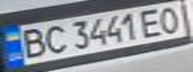1: (118, 9, 142, 40)
3: (69, 18, 90, 51)
4: (103, 11, 127, 44), (87, 15, 109, 47)
B: (15, 25, 51, 60)
C: (39, 22, 69, 55)
E: (136, 6, 169, 38)
O: (154, 3, 184, 34)
